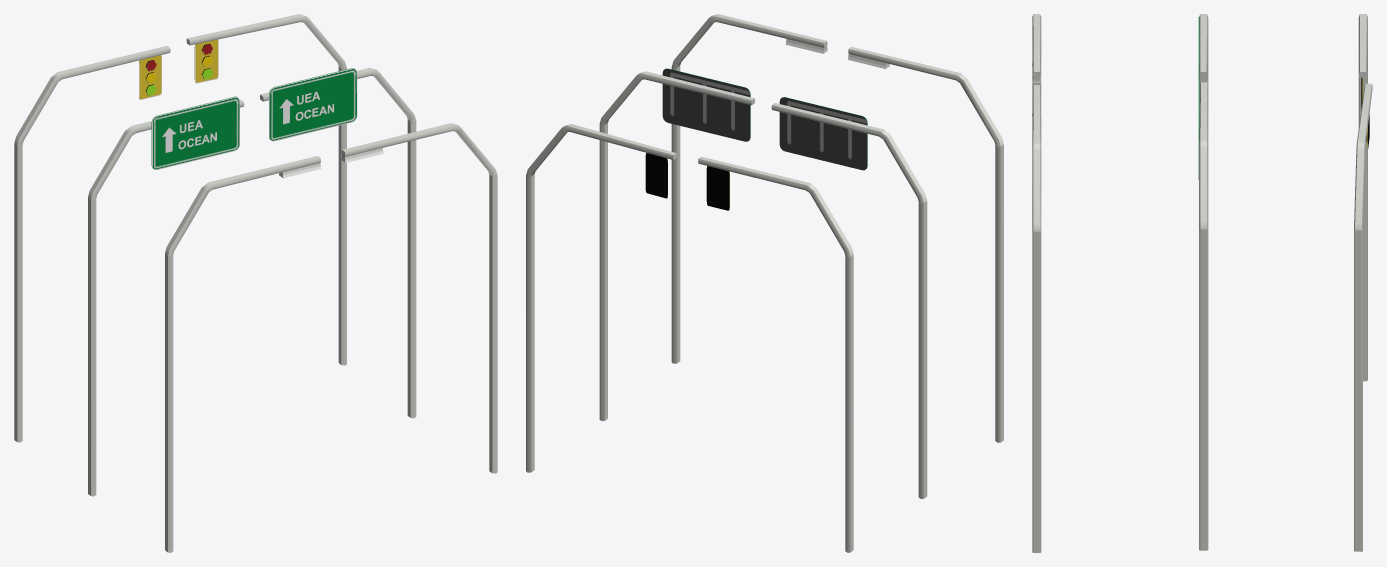
File: poles.fbx
3 renders of one model, left to right at view 1: azimuth 30°, elevation 25°; view 2: azimuth 150°, elevation 25°; view 3: azimuth 270°, elevation 25°, orthographic. The views are drawn at different scales.
Visible parts, largest first — view 1: pCube12, polySurface1, pCube10, pCube2, polySurface8, pCube15; view 2: pCube12, polySurface1, pCube10, polySurface8, pCube2, pCube15; view 3: polySurface1, pCube15, polySurface8, pCube10, pCube12, pCube2.
Part boxes in pixels (x1,y1,x2,y2): pCube12: [88, 96, 244, 496]; polySurface1: [260, 67, 416, 418]; pCube10: [14, 46, 170, 442]; pCube2: [165, 156, 321, 552]; polySurface8: [186, 14, 346, 365]; pCube15: [341, 123, 497, 473]; pCube12: [771, 97, 927, 498]; polySurface1: [599, 68, 755, 420]; pCube10: [698, 156, 853, 552]; polySurface8: [526, 124, 677, 472]; pCube2: [848, 47, 1003, 442]; pCube15: [671, 14, 827, 363]; polySurface1: [1198, 79, 1208, 550]; pCube15: [1032, 85, 1041, 552]; polySurface8: [1354, 83, 1372, 551]; pCube10: [1358, 14, 1367, 381]; pCube12: [1198, 14, 1208, 118]; pCube2: [1032, 14, 1041, 123].
Bounding box in the file's own units: 12.22 × 12.94 × 10.08.
